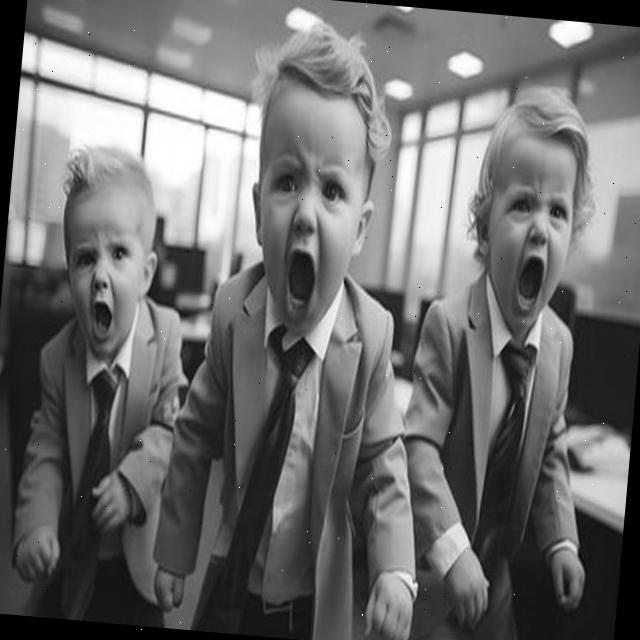Angry: (246, 92, 372, 338), (478, 138, 578, 332), (61, 186, 148, 357)
